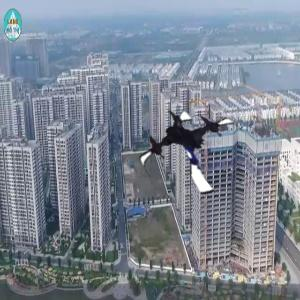drone: (140, 97, 250, 207)
